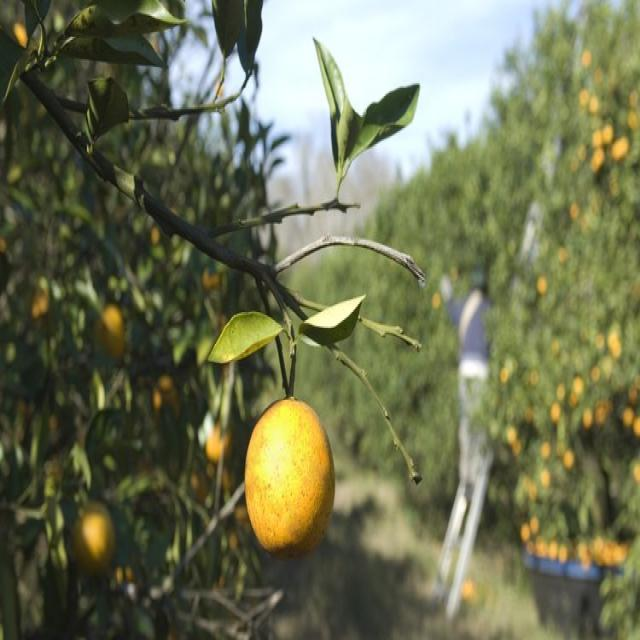Jeruk Sudah Matang: (242, 394, 336, 562), (71, 499, 115, 575)
